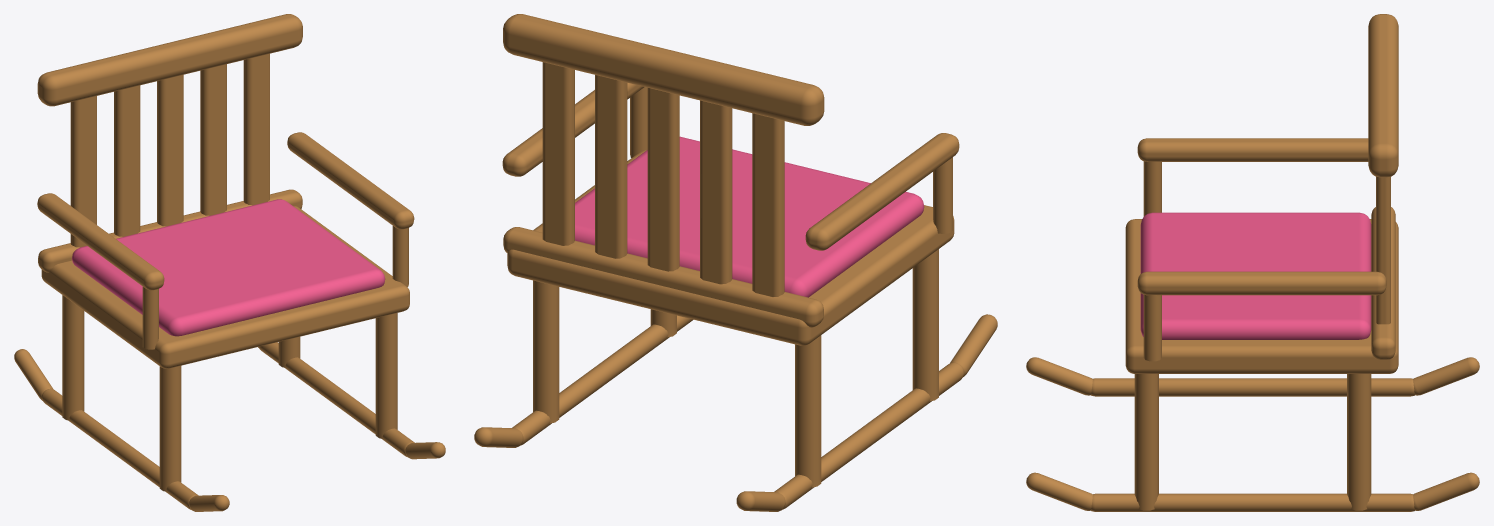
File: armchair-rocker.glb
3 views of the same model, side by side, from view 1: azimuth 30°, elevation 25°; view 2: azimuth 150°, elevation 25°; view 3: azimuth 270°, elevation 25° (orthographic). The views are drawn at different scales.
Size of the model in its own units: 1.12 by 1.36 by 1.49.
